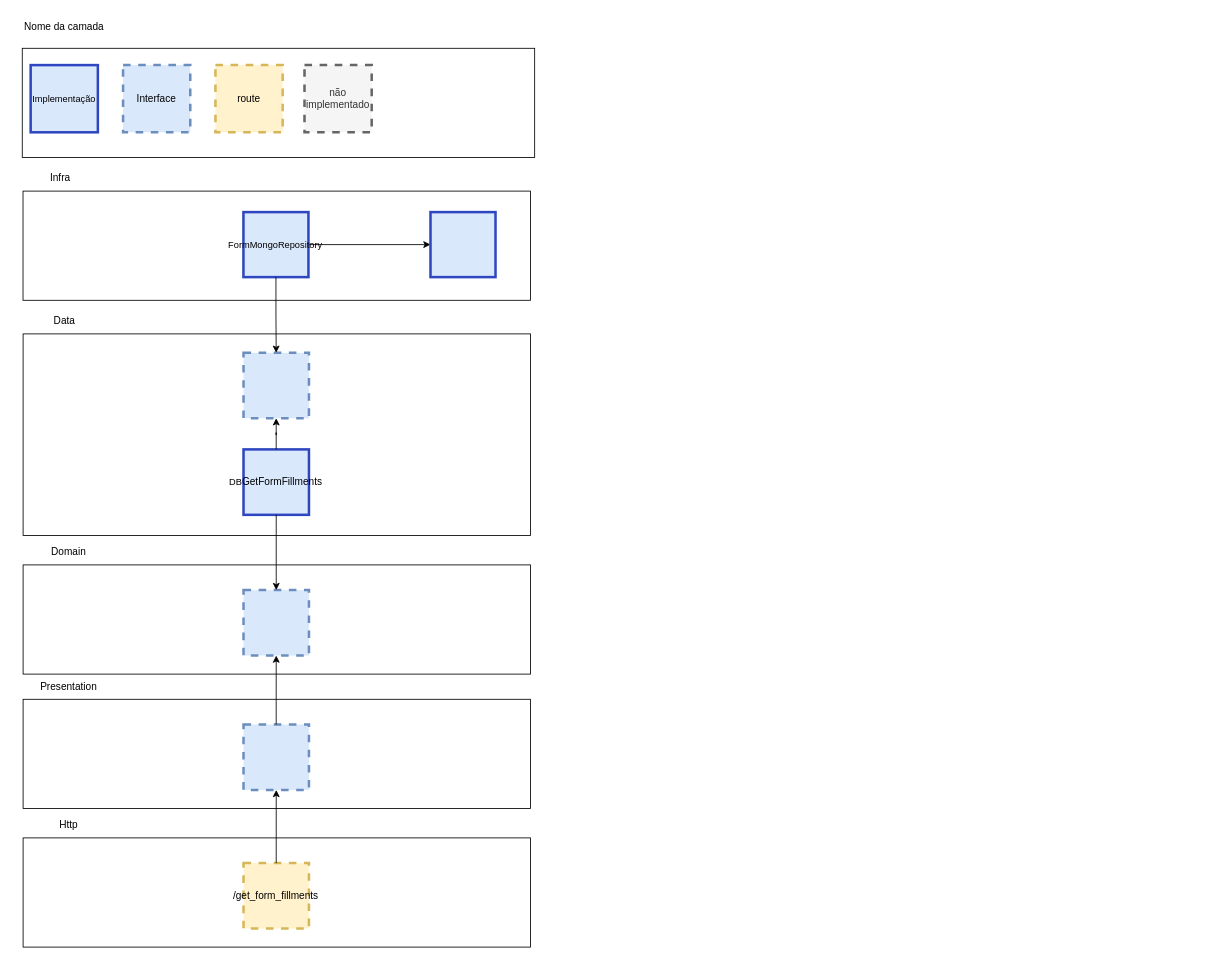
Image size: 1217x962. Some labels were removed from this diagram. The centre of each missing label's shape, as x and y in pixels:
"GetFormFillments" goes at point (276, 622).
"GetFormFillmentsController" goes at point (276, 757).
"GetFormFillmentsRepository" goes at point (276, 385).
"MongoHelper" goes at point (462, 244).
